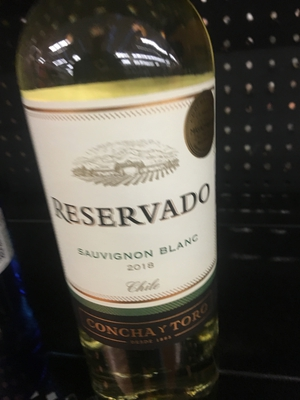reservado sauvignon blanc: (24, 20, 231, 386)
